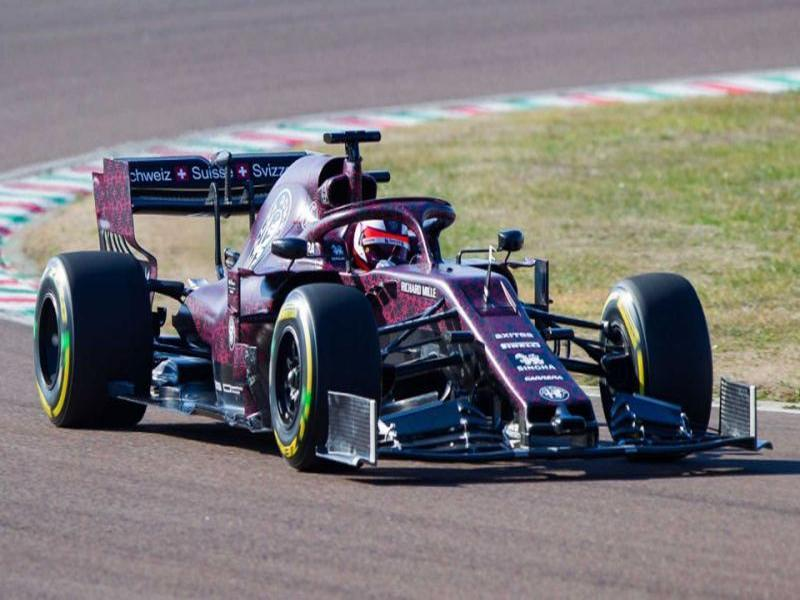f1: (36, 128, 775, 484)
